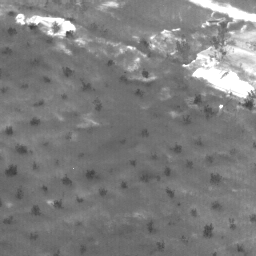aircraft: (220, 106, 222, 108)
